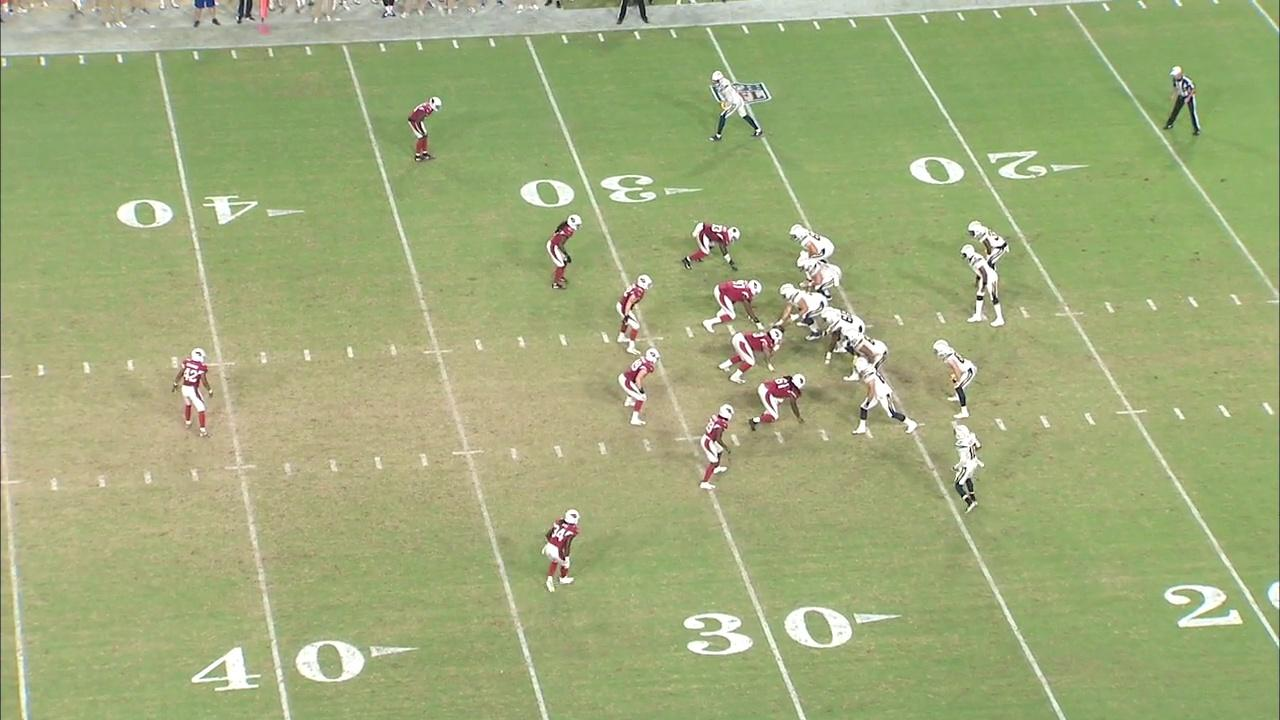player: (852, 358, 915, 434), (705, 69, 766, 145), (962, 244, 1009, 329), (746, 371, 807, 432), (176, 345, 213, 440), (934, 341, 975, 425), (619, 343, 660, 427), (613, 273, 656, 353), (699, 400, 736, 492), (401, 93, 446, 165), (544, 507, 581, 593), (544, 210, 581, 295), (705, 278, 763, 332), (723, 328, 780, 382), (771, 283, 825, 339), (681, 223, 741, 271), (951, 426, 982, 513), (820, 306, 865, 365), (843, 328, 889, 382), (797, 255, 843, 301), (968, 221, 1010, 271), (788, 224, 835, 261)
ref: (1158, 63, 1202, 136)
